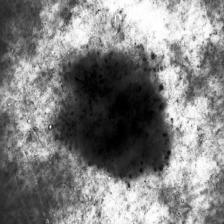Benign Marking or Mole: (54, 54, 172, 181)
